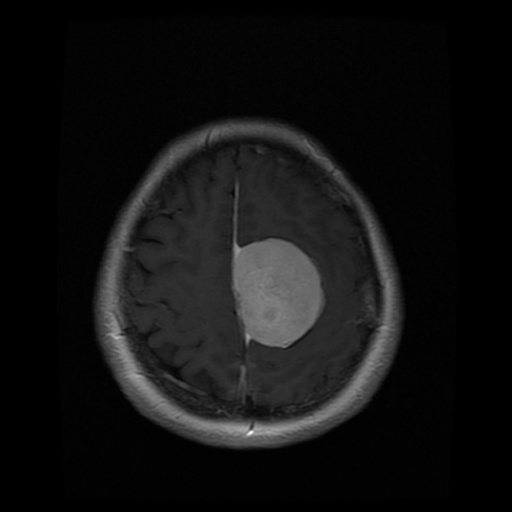meningioma: (230, 237, 326, 348)
